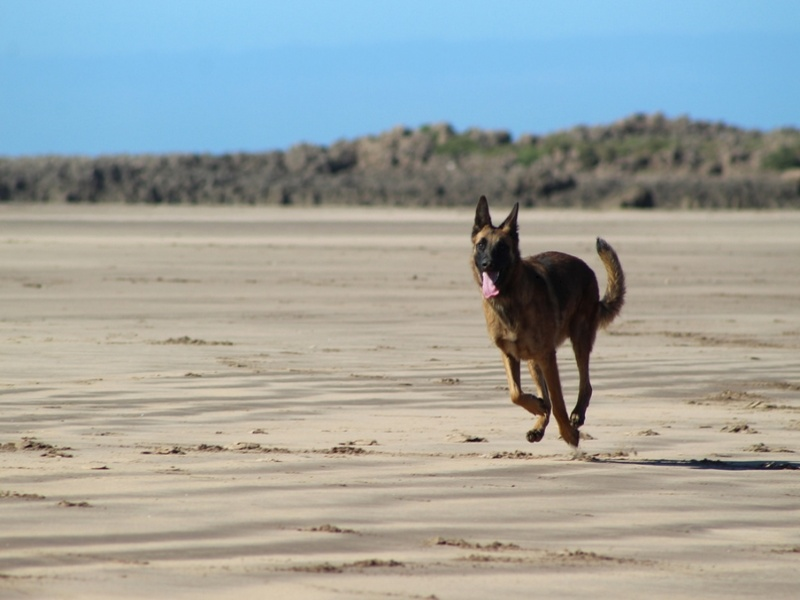dog: (464, 190, 636, 454)
